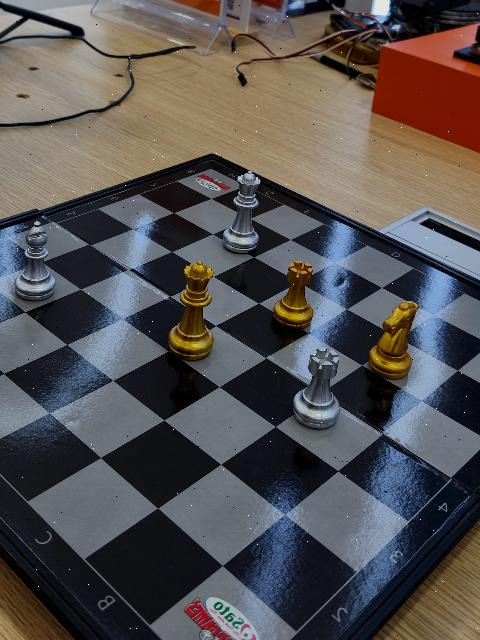black_knight: (366, 299, 421, 382)
black_queen: (166, 261, 216, 361)
black_rook: (271, 260, 316, 332)
white_bishop: (13, 215, 57, 301)
white_queen: (221, 170, 261, 253)
white_rook: (291, 347, 343, 431)
